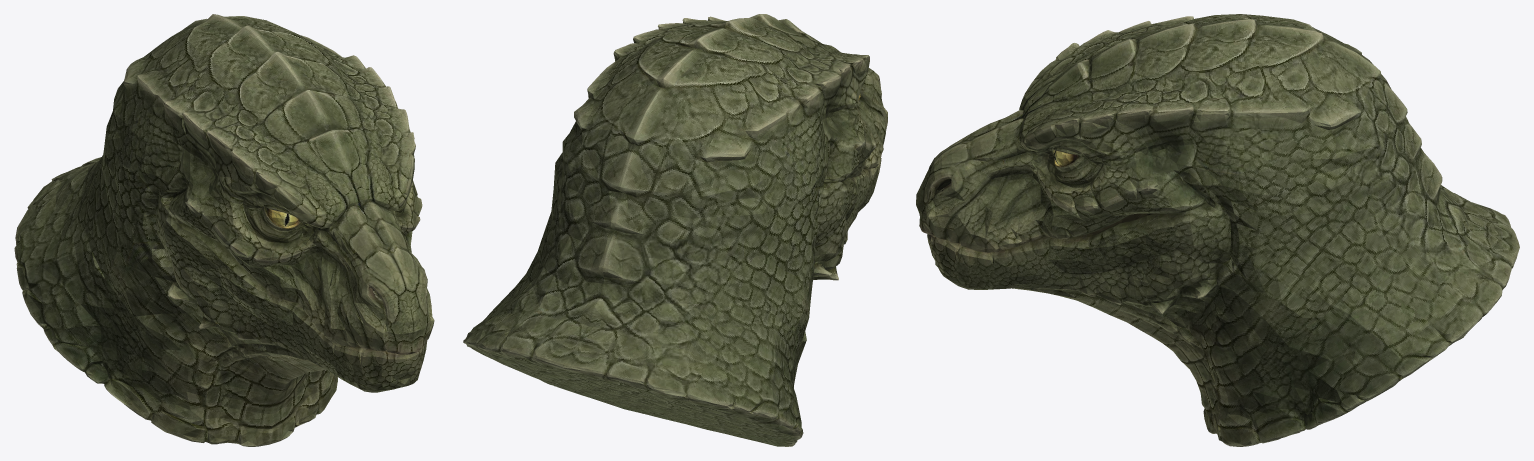
File: ewm_lizardhead.glb
3 renders of one model, left to right at view 1: azimuth 30°, elevation 25°; view 2: azimuth 150°, elevation 25°; view 3: azimuth 270°, elevation 25°, orthographic.
Parts seen in each view (by area): view 1: ewm_lizardhead; view 2: ewm_lizardhead; view 3: ewm_lizardhead.
Boxes of the visible parts, x1,y1,x2,y2 form: ewm_lizardhead: (14,14,434,446); ewm_lizardhead: (463,14,887,446); ewm_lizardhead: (916,14,1519,446).
Bounding box in the file's own units: 0.2938 × 0.3711 × 0.501.
Materials: 1 (1 with a texture image).
